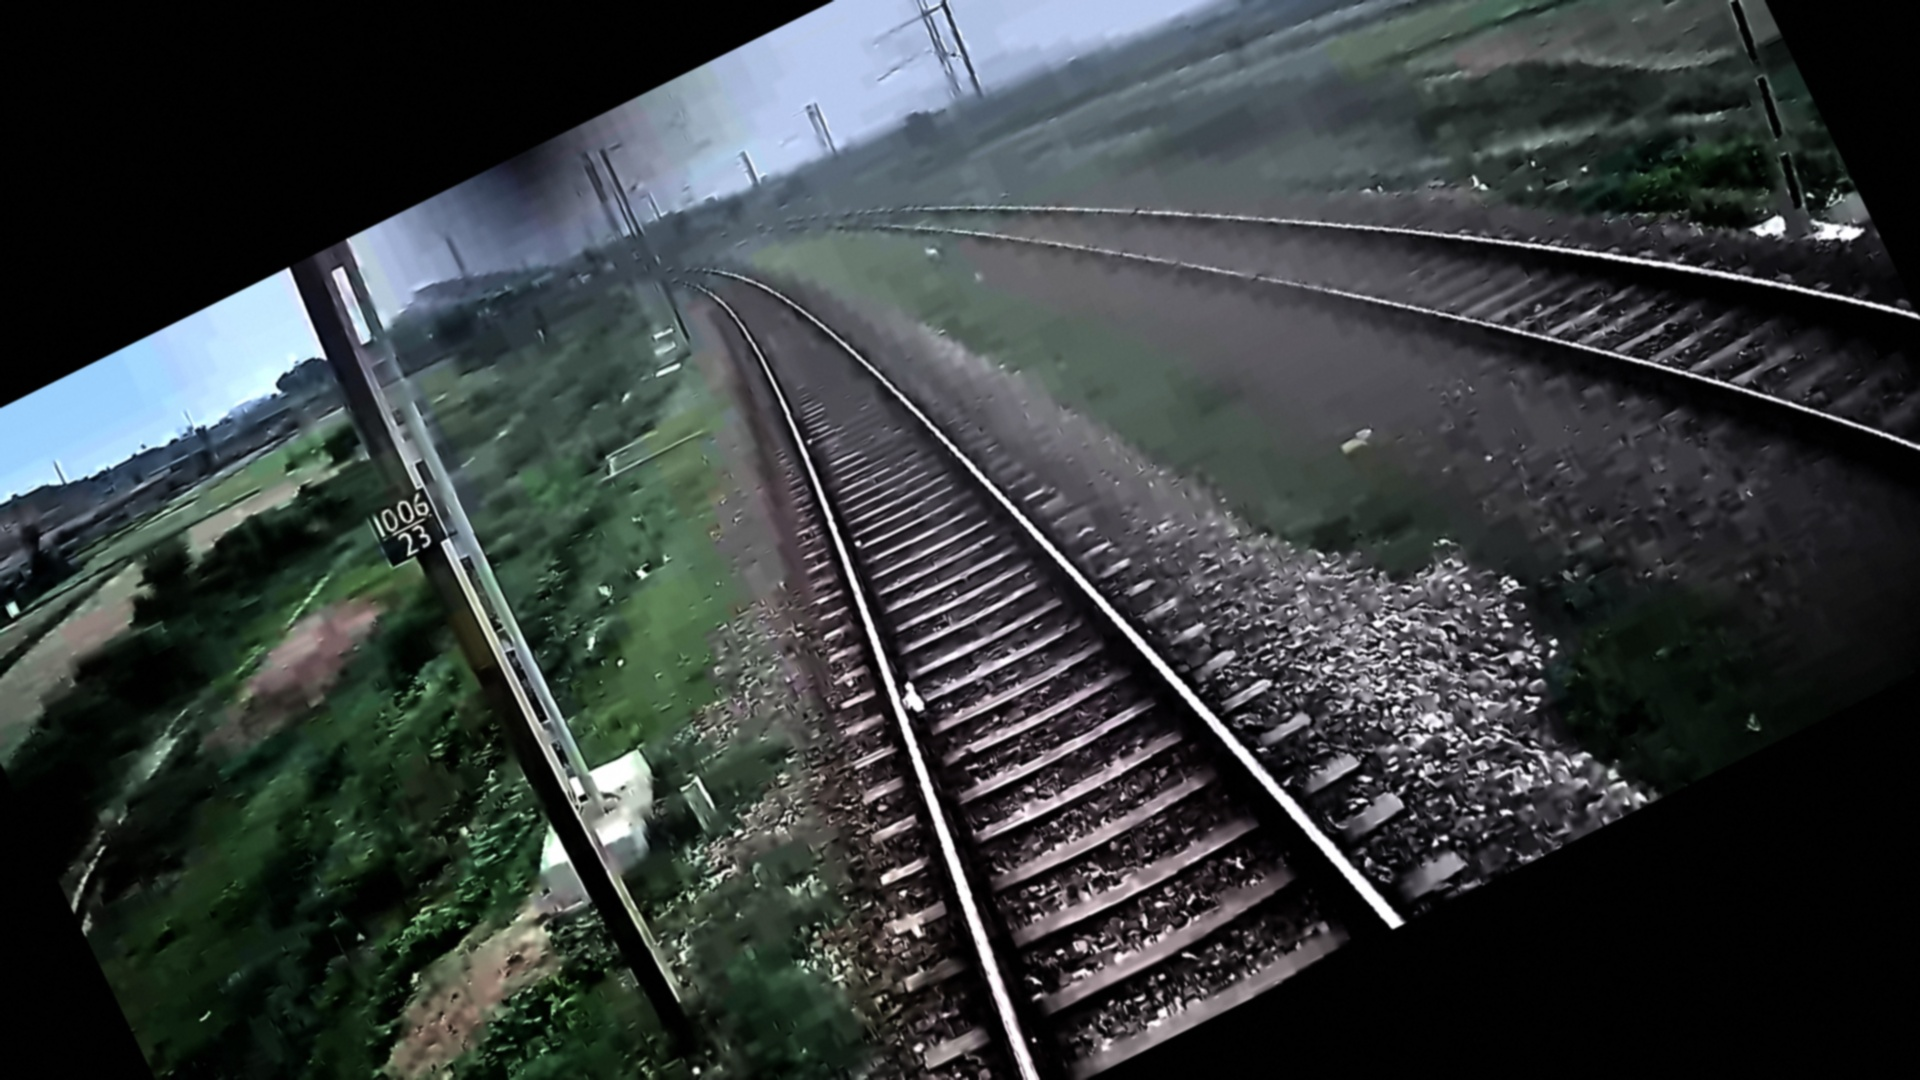track1: (707, 272, 1336, 1035)
track2: (926, 206, 1905, 430)
